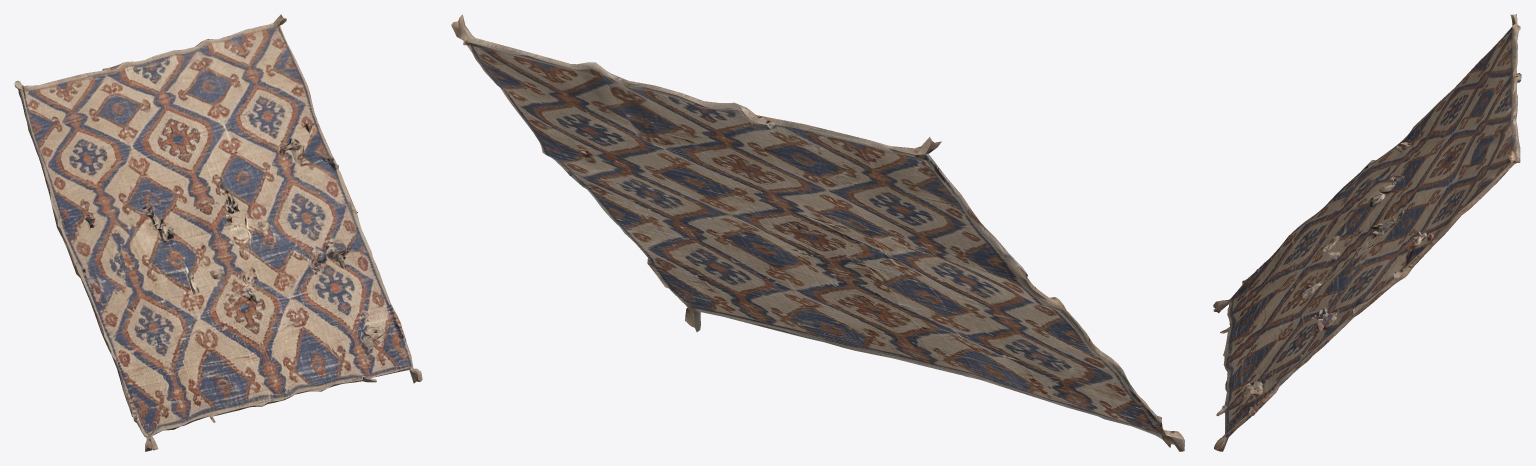
File: model_glb.glb
3 renders of one model, left to right at view 1: azimuth 30°, elevation 25°; view 2: azimuth 150°, elevation 25°; view 3: azimuth 270°, elevation 25°, orthographic. The views are drawn at different scales.
Visible parts, largest first — view 1: geometry_0; view 2: geometry_0; view 3: geometry_0.
Boxes of the visible parts, <box> form: geometry_0: <box>14,14,422,451</box>; geometry_0: <box>451,14,1184,451</box>; geometry_0: <box>1213,14,1521,451</box>.
Size of the model in its own units: 1.8 by 1.7 by 1.57.
Materials: 1 (1 with a texture image).
